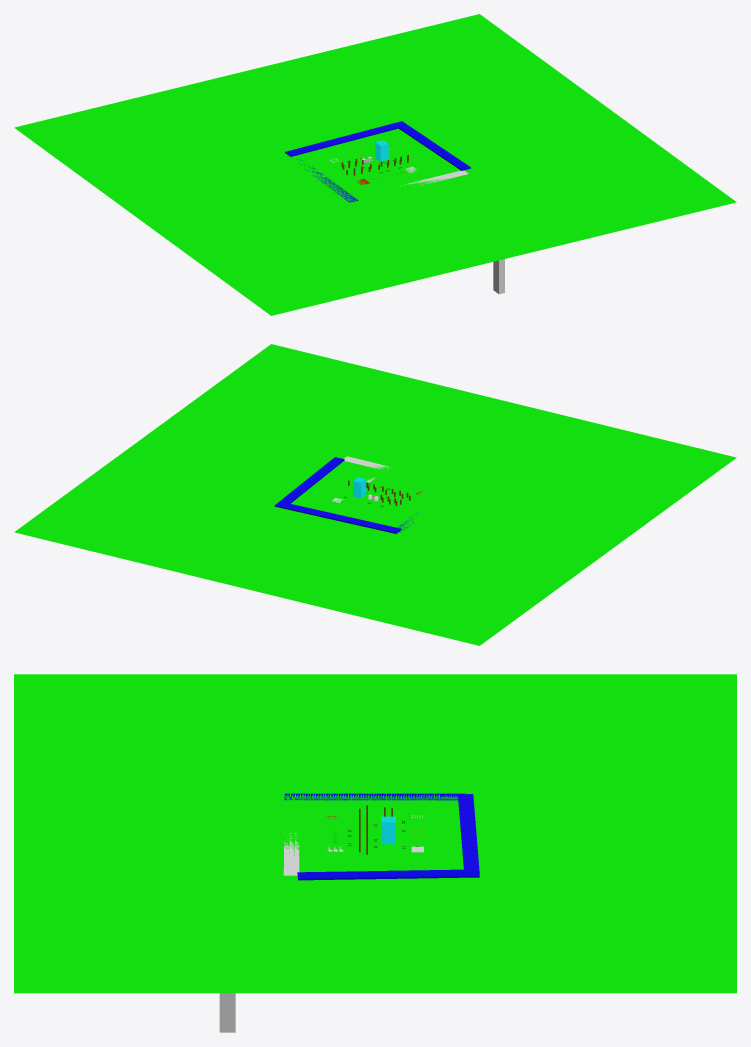
File: City.glb
3 views of the same model, one above another, from view 1: azimuth 30°, elevation 25°; view 2: azimuth 150°, elevation 25°; view 3: azimuth 270°, elevation 25° (orthographic). The views are drawn at different scales.
Parts seen in each view (by area): view 1: Plane, Cube.025, Cube.026; view 2: Plane, Cube.025, Cube.026; view 3: Plane, Cube.026, Cube.023, Cube.025, Cube.028.
Part boxes in pixels (box(x1,y1,x2,y2)): Plane: box(14, 14, 736, 315); Cube.025: box(285, 123, 400, 156); Cube.026: box(395, 121, 470, 170); Plane: box(14, 344, 736, 645); Cube.025: box(282, 503, 401, 533); Cube.026: box(274, 457, 344, 507); Plane: box(14, 674, 736, 993); Cube.026: box(297, 869, 479, 880); Cube.023: box(284, 793, 465, 800); Cube.025: box(458, 794, 479, 872); Cube.028: box(219, 993, 235, 1032).
Size of what is drawn, in the model's own units: 402 by 99.97 by 385.
